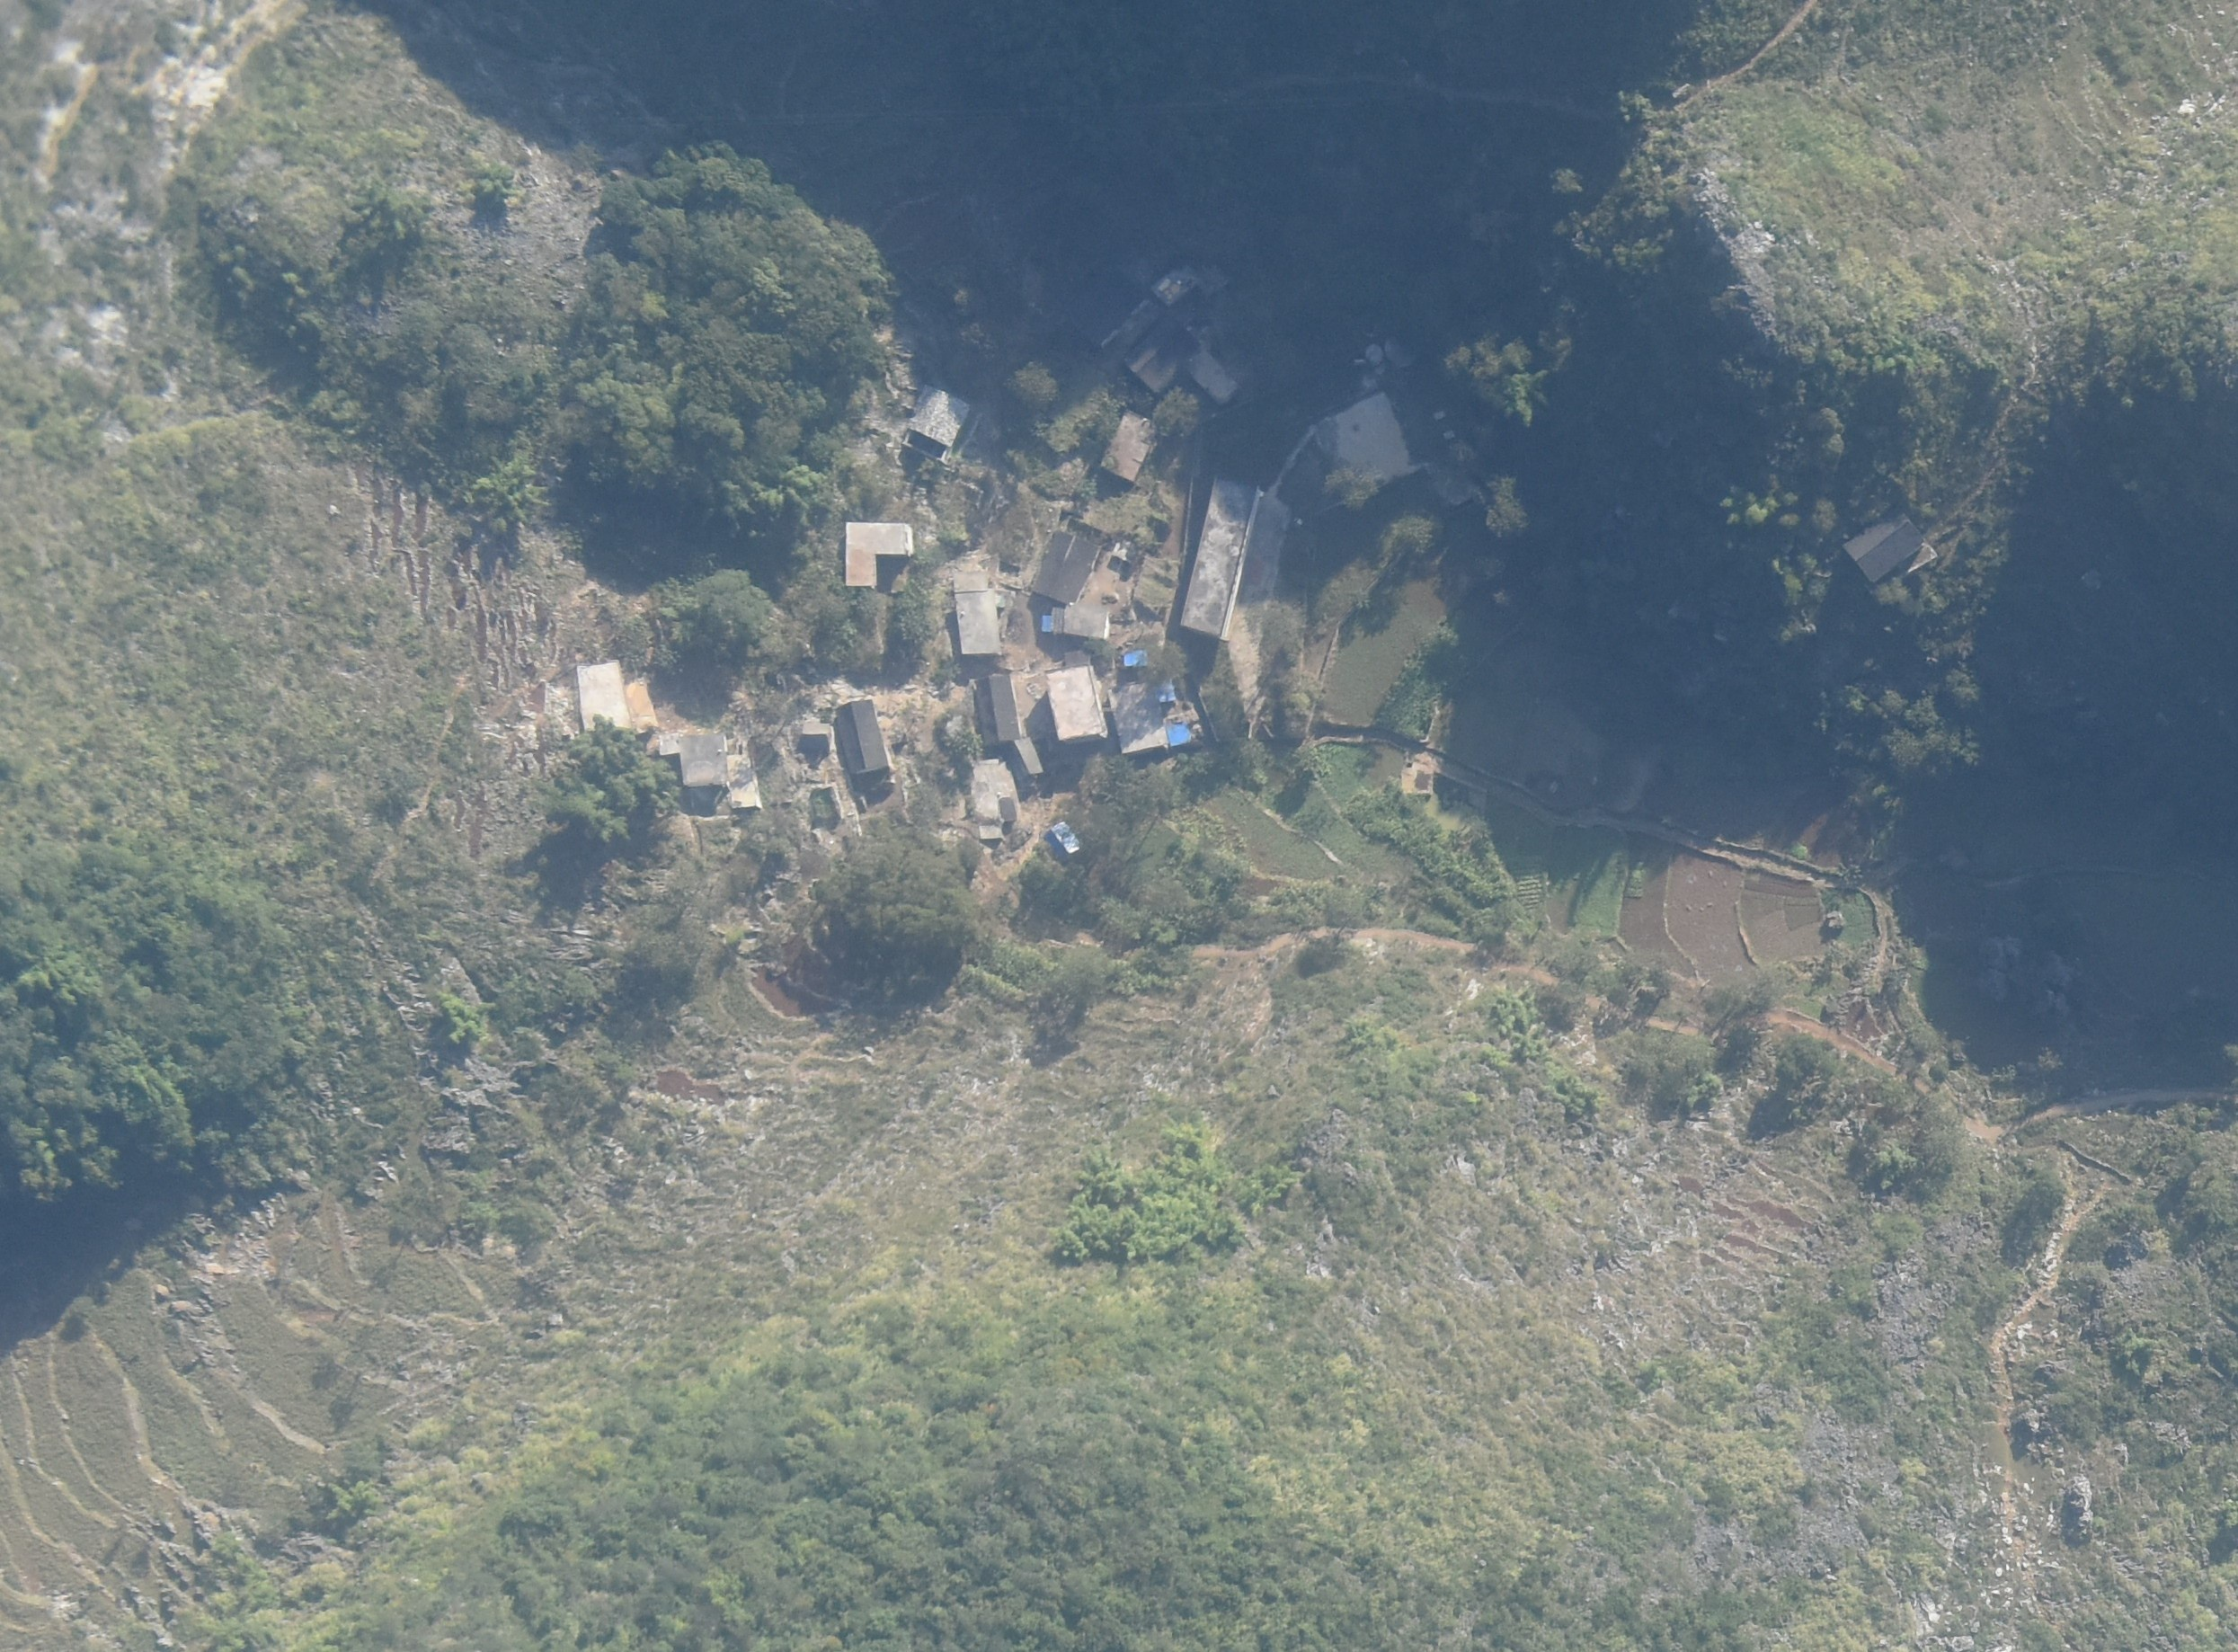building: (1183, 475, 1293, 645), (869, 385, 980, 472), (1313, 394, 1412, 490), (1843, 511, 1942, 589), (656, 735, 762, 807), (577, 662, 658, 738), (1127, 315, 1196, 395), (951, 561, 1009, 653), (1032, 528, 1099, 600), (1047, 664, 1108, 741), (966, 758, 1023, 839), (834, 697, 891, 776), (1107, 680, 1168, 751), (847, 522, 909, 589), (1097, 412, 1156, 481), (1182, 329, 1237, 403), (1152, 259, 1229, 301), (976, 672, 1017, 745), (1054, 603, 1110, 636), (1006, 738, 1042, 784), (801, 721, 834, 747)
prefabricated-house: (1166, 726, 1191, 746), (1124, 650, 1150, 667), (1157, 681, 1177, 703), (1038, 615, 1053, 634)
vehicle: (1053, 823, 1081, 853)
